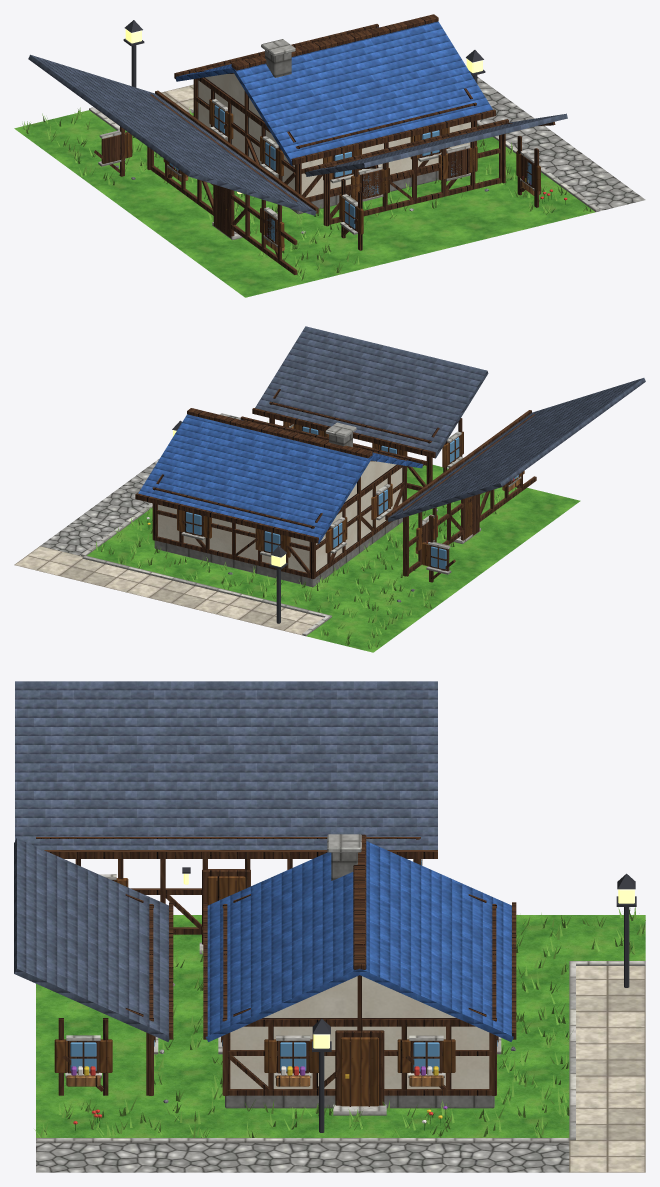
Rendered from chunk_1_9.glb.
The picture shows the model from 3 angles, top to bottom: view 1: azimuth 30°, elevation 25°; view 2: azimuth 150°, elevation 25°; view 3: azimuth 270°, elevation 25°; orthographic projection. The views are drawn at different scales.
Parts seen in each view (by area): view 1: chunk_1_9; view 2: chunk_1_9; view 3: chunk_1_9.
Part boxes in pixels (x1,y1,x2,y2): chunk_1_9: [14, 14, 645, 297]; chunk_1_9: [14, 326, 645, 652]; chunk_1_9: [14, 681, 645, 1172].
Bounding box in the file's own units: 18.58 × 5.64 × 16.58.
23 materials, 14 textured.
